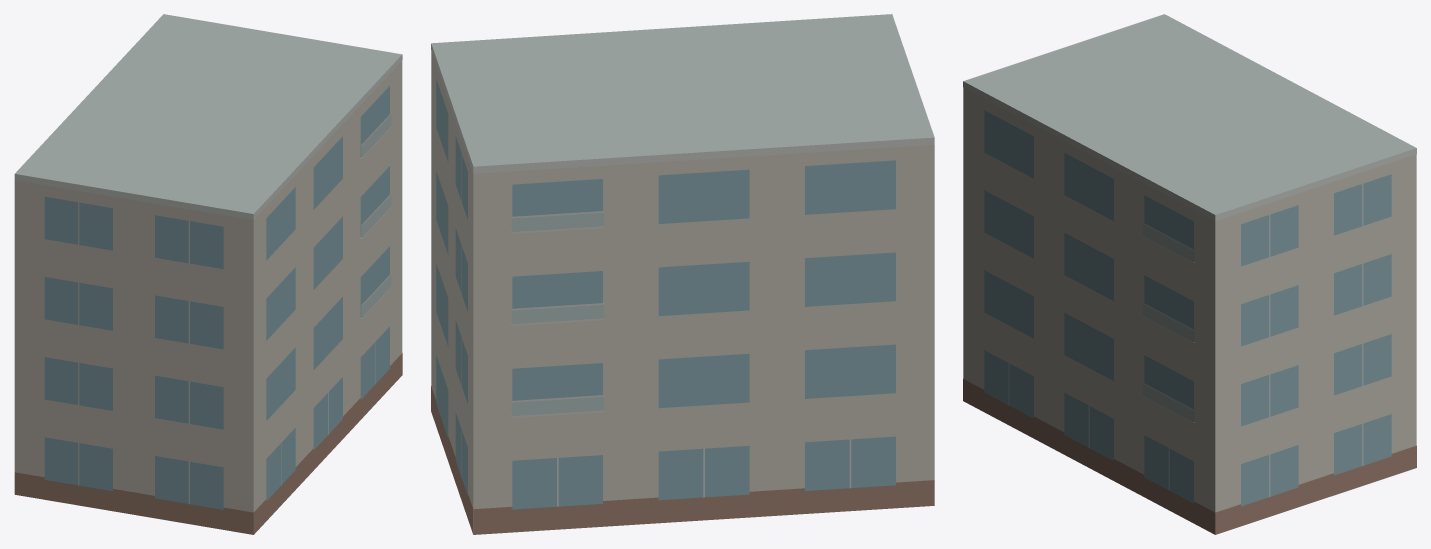
File: survey-upis-32777925.glb
The picture shows the model from 3 angles, left to right: view 1: azimuth 30°, elevation 25°; view 2: azimuth 150°, elevation 25°; view 3: azimuth 270°, elevation 25°; orthographic projection. The views are drawn at different scales.
Parts seen in each view (by area): view 1: survey-upis-32777925.tmp; view 2: survey-upis-32777925.tmp; view 3: survey-upis-32777925.tmp.
Part boxes in pixels (bbox=[...]): survey-upis-32777925.tmp: bbox=[14, 14, 402, 534]; survey-upis-32777925.tmp: bbox=[431, 14, 934, 534]; survey-upis-32777925.tmp: bbox=[963, 14, 1416, 534].
Bounding box in the file's own units: 17.13 × 12.7 × 16.33.
